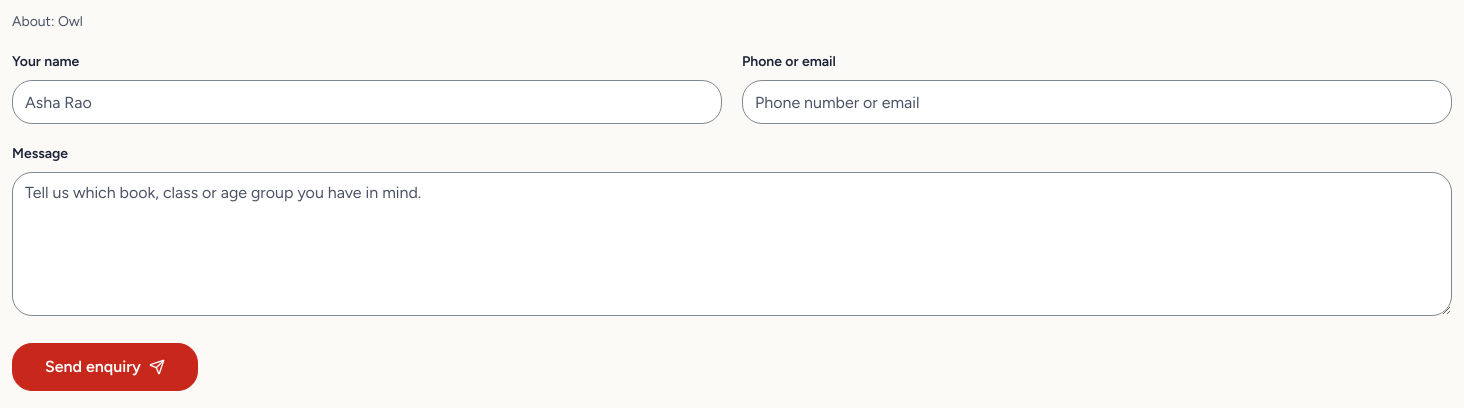
Scenario: EnquiryForm › opens the window before the save resolves, then navigates it after save
In the field labelled "Your name": [367, 102] box [12,80,722,124], type "Asha"
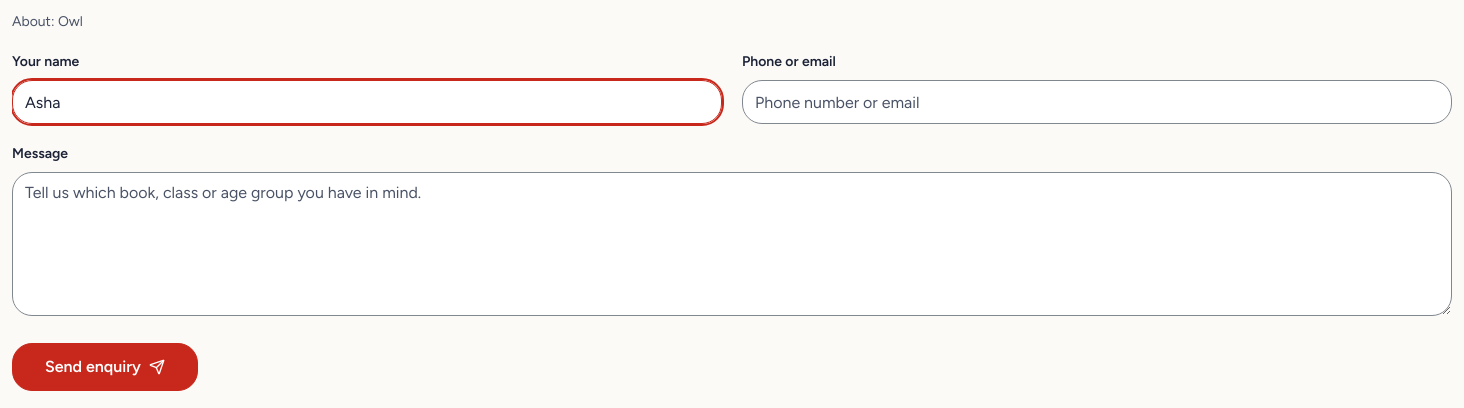
In the field labelled "Phone or email": [1097, 102] box [742,80,1452,124], type "a@b.in"
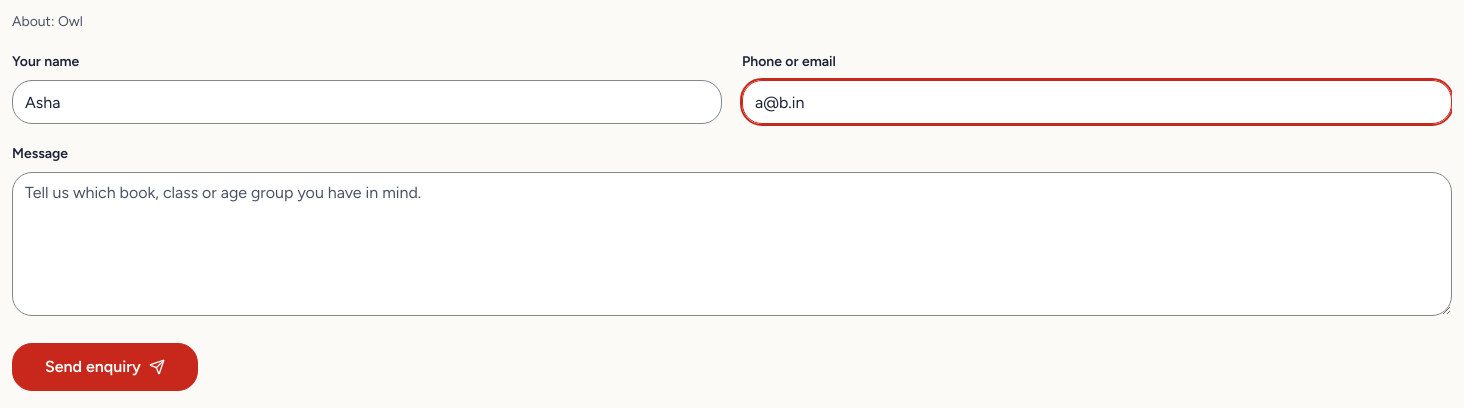
In the text box labelled "Message": [732, 244] box [12,172,1452,316], type "Do you ship?"
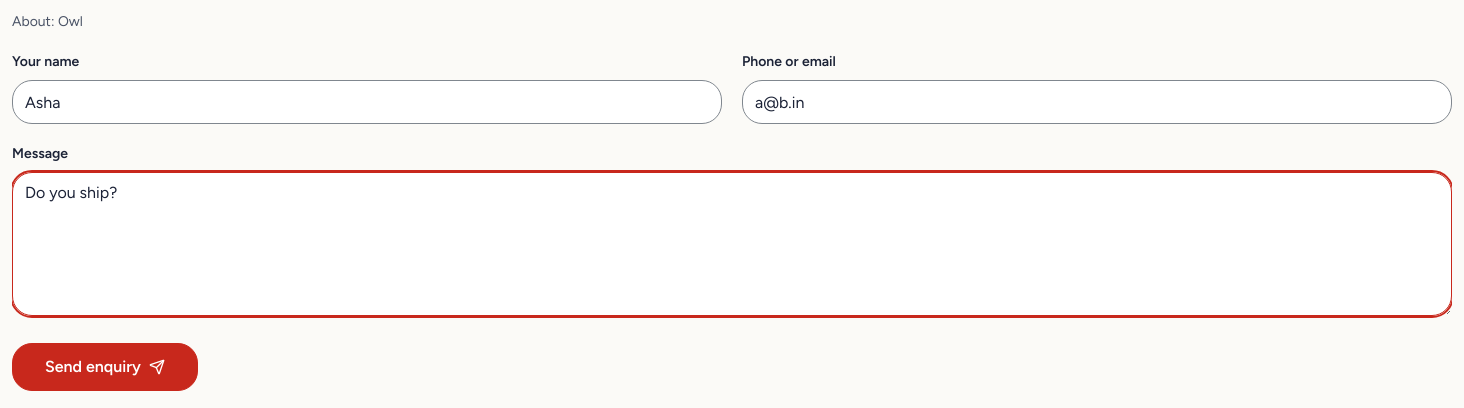
Click the button "Send enquiry": [105, 367] box [12,343,198,391]
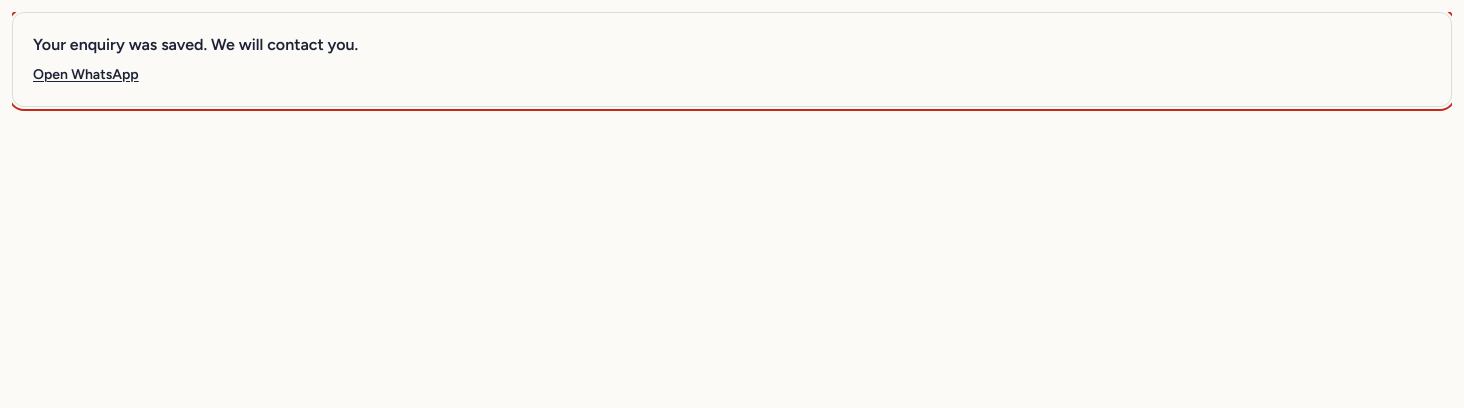
Expected: the text "Your enquiry was saved. We will contact you." is shown, [33,35,358,54]
Expected: the link "Open WhatsApp" is shown, [33,65,139,85]
